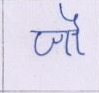ai_matra: (59, 2, 82, 29)
